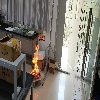fire: (31, 39, 40, 79)
